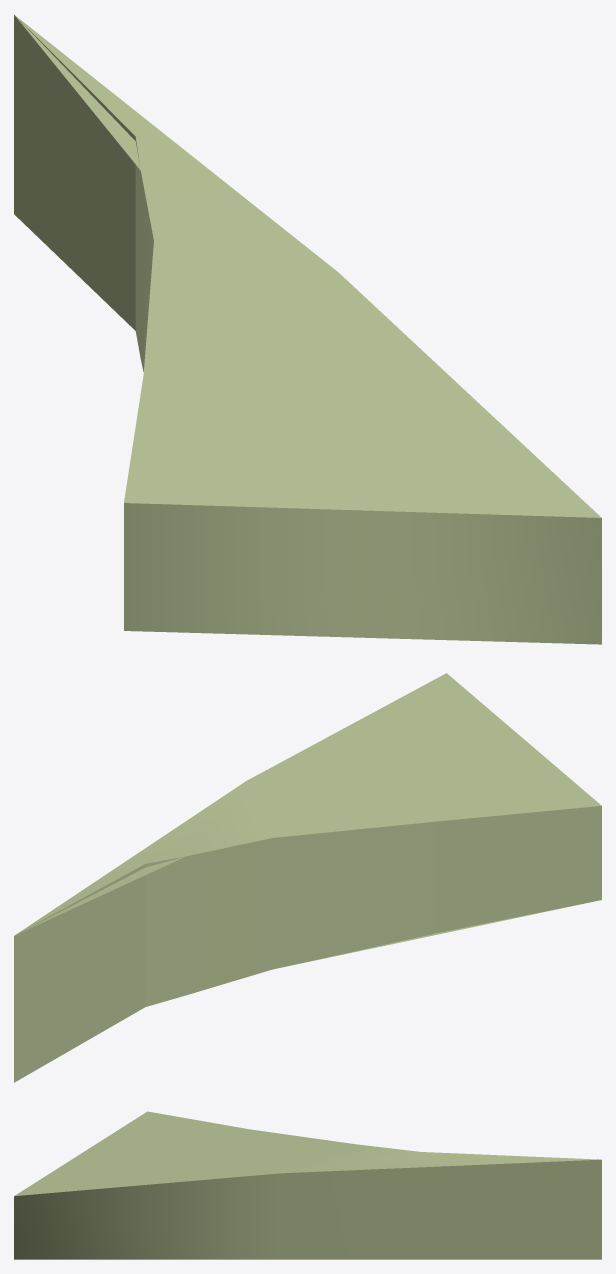
File: ground_9.gltf
The picture shows the model from 3 angles, top to bottom: view 1: azimuth 30°, elevation 25°; view 2: azimuth 150°, elevation 25°; view 3: azimuth 270°, elevation 25°; orthographic projection. The views are drawn at different scales.
Visible parts, largest first — view 1: o_ground_9; view 2: o_ground_9; view 3: o_ground_9.
Boxes of the visible parts, bbox=[...] form: o_ground_9: bbox=[14, 14, 601, 644]; o_ground_9: bbox=[14, 673, 601, 1082]; o_ground_9: bbox=[14, 1111, 601, 1259].
Bounding box in the file's own units: 4.46 × 2.44 × 13.01.
